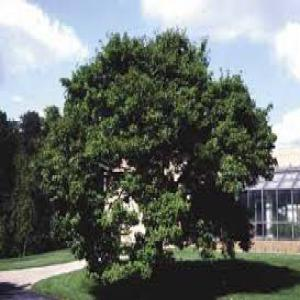Tree: (41, 24, 277, 284)
